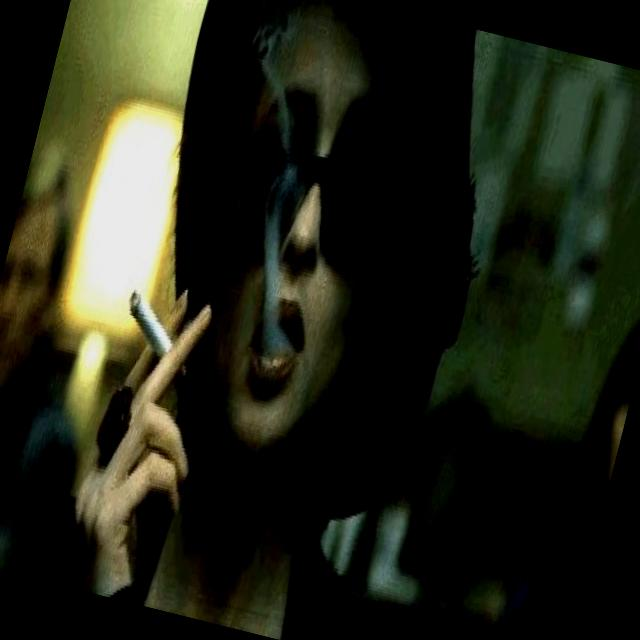smoke: (107, 269, 214, 386)
